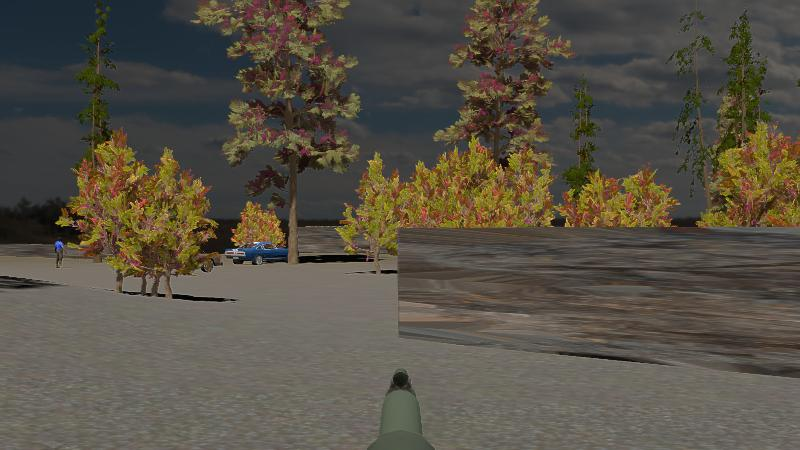Human: (53, 236, 65, 270)
car: (231, 241, 294, 266), (549, 208, 573, 229)
